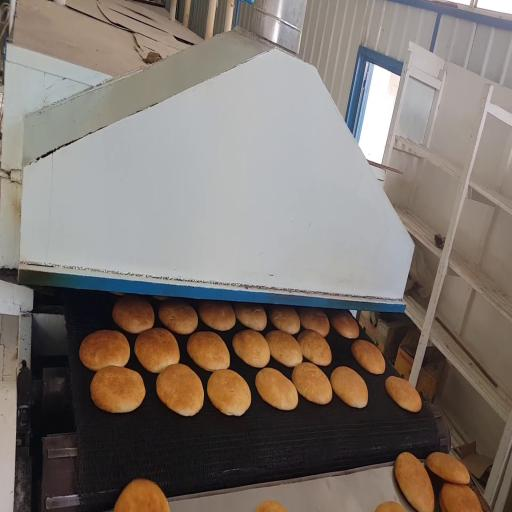bread: (91, 366, 145, 412), (156, 364, 203, 416), (395, 452, 434, 511), (80, 330, 130, 371), (207, 370, 251, 416), (135, 328, 179, 373), (256, 368, 298, 410), (114, 479, 169, 511), (187, 332, 230, 371), (292, 363, 332, 404), (331, 366, 368, 408), (113, 296, 154, 333), (426, 452, 470, 484), (233, 330, 270, 367), (159, 300, 198, 334), (266, 331, 302, 367), (297, 329, 332, 366), (386, 376, 421, 412), (440, 483, 482, 511), (352, 340, 385, 374), (199, 301, 235, 331), (233, 303, 266, 330), (299, 308, 329, 337), (269, 306, 300, 334), (331, 311, 359, 338), (256, 501, 286, 511), (376, 502, 405, 511), (439, 494, 446, 511), (152, 296, 168, 301), (111, 292, 124, 296)
